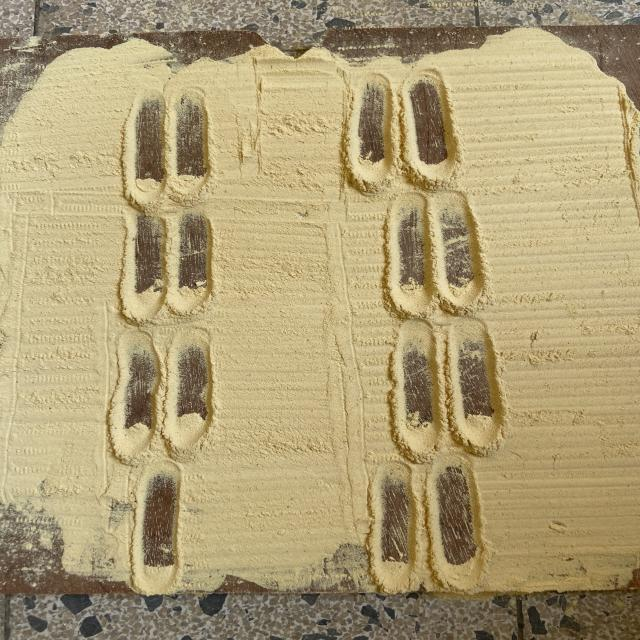double: (384, 322, 508, 456), (363, 460, 489, 586), (106, 328, 222, 461), (342, 70, 464, 186), (380, 190, 490, 318), (115, 212, 221, 324), (120, 88, 214, 208)
single: (130, 465, 189, 592)
